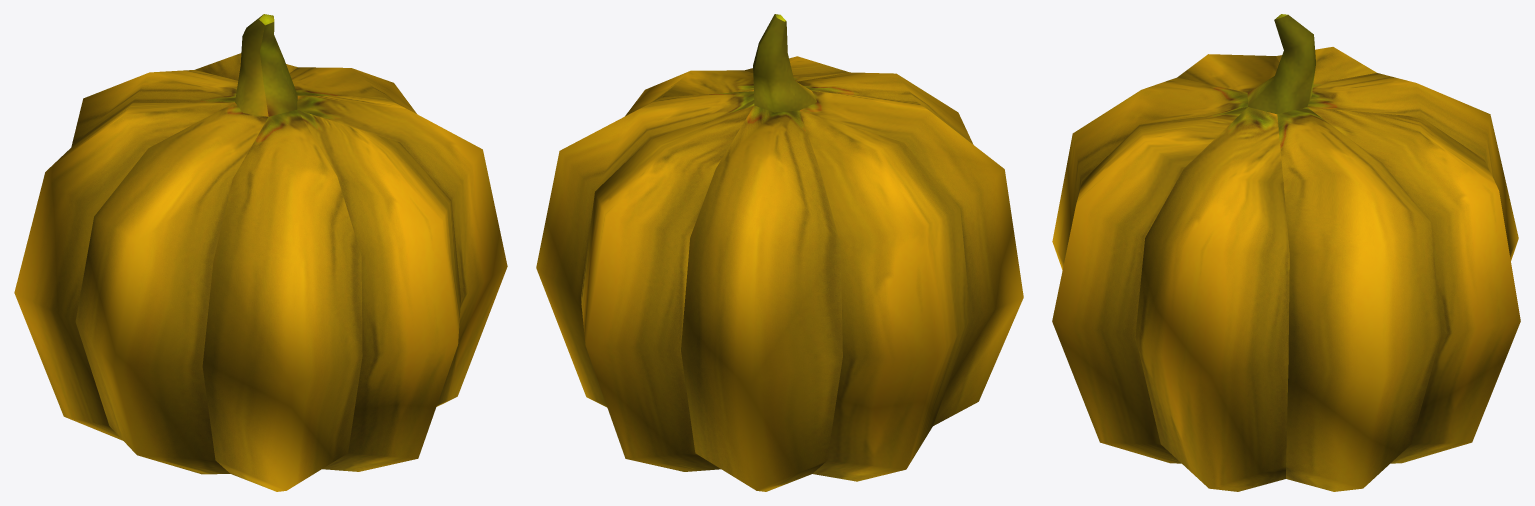
Rendered from ruraltown_pumpking_medium_00.fbx.
The picture shows the model from 3 angles, left to right: view 1: azimuth 30°, elevation 25°; view 2: azimuth 150°, elevation 25°; view 3: azimuth 270°, elevation 25°; orthographic projection.
Parts seen in each view (by area): view 1: ruraltown_pumpking_medium_00; view 2: ruraltown_pumpking_medium_00; view 3: ruraltown_pumpking_medium_00.
Part boxes in pixels (left/top/right/bottom): ruraltown_pumpking_medium_00: left=14, top=14, right=507, bottom=491; ruraltown_pumpking_medium_00: left=536, top=14, right=1023, bottom=491; ruraltown_pumpking_medium_00: left=1052, top=14, right=1520, bottom=491.
Size of the model in its own units: 0.542 by 0.5509 by 0.5431.
